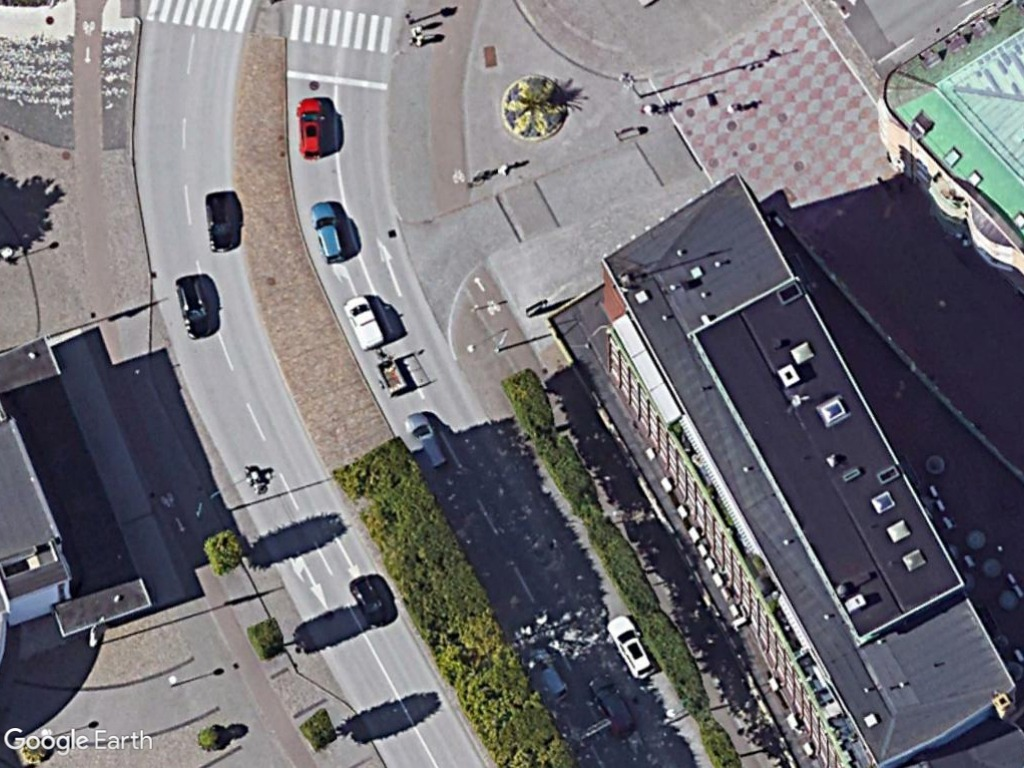car: (609, 608, 662, 682), (401, 408, 454, 475), (172, 274, 218, 344), (310, 198, 352, 269), (293, 94, 332, 163)
van: (340, 293, 387, 354)
